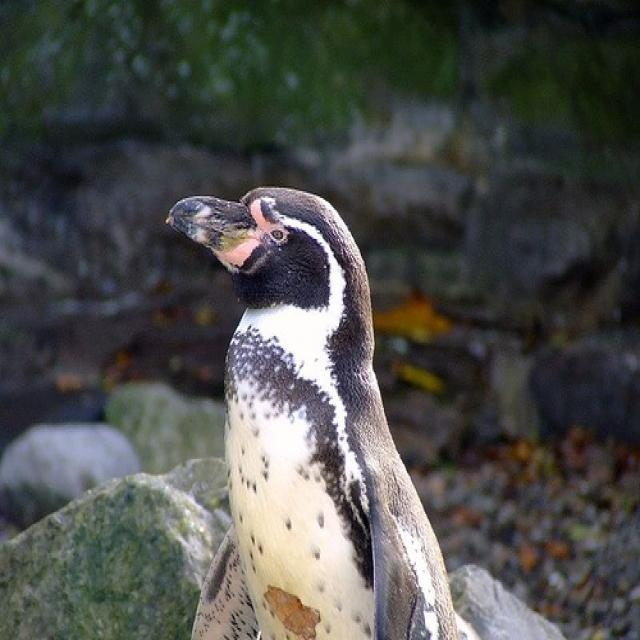bird: (167, 187, 458, 639)
